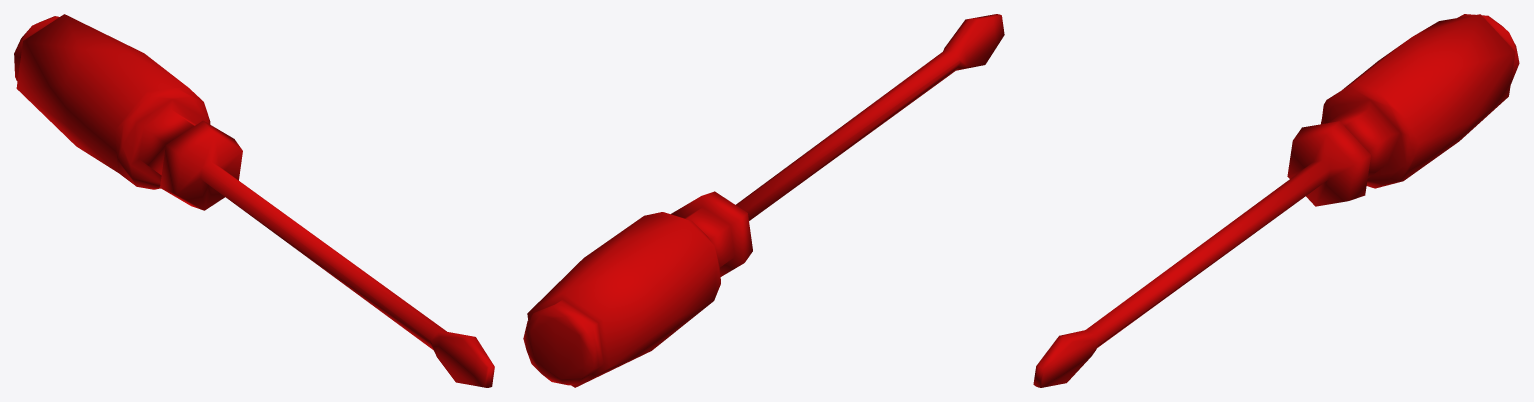
Rendered from screwdriver2_1.dae.
3 renders of one model, left to right at view 1: azimuth 30°, elevation 25°; view 2: azimuth 150°, elevation 25°; view 3: azimuth 330°, elevation 25°, orthographic.
Visible parts, largest first — view 1: screwdriver2; view 2: screwdriver2; view 3: screwdriver2.
Part boxes in pixels (bbox=[...]): screwdriver2: bbox=[14, 14, 494, 387]; screwdriver2: bbox=[523, 14, 1004, 387]; screwdriver2: bbox=[1033, 14, 1519, 387].
Bounding box in the file's own units: 0.0446 × 0.3474 × 0.0445.
